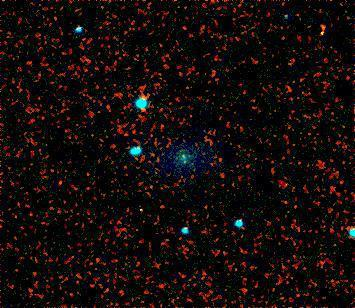star: (166, 147, 196, 177)
